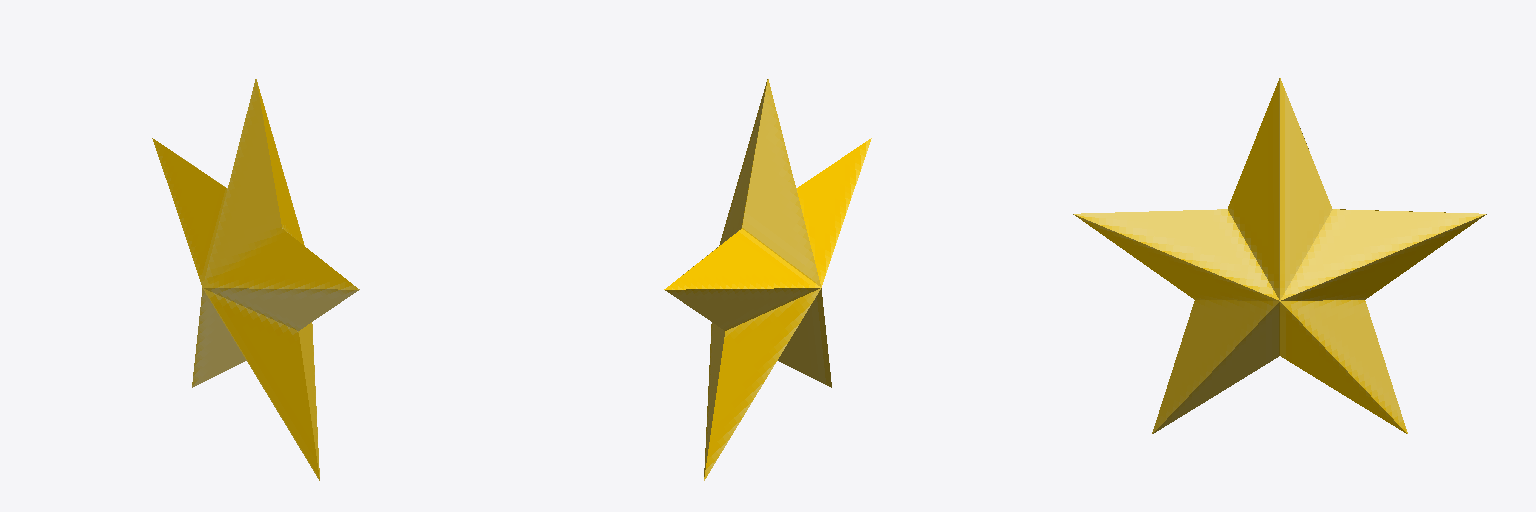
3 views of the same model, side by side, from view 1: azimuth 30°, elevation 25°; view 2: azimuth 150°, elevation 25°; view 3: azimuth 270°, elevation 25° (orthographic).
Parts seen in each view (by area): view 1: Circle; view 2: Circle; view 3: Circle.
Part boxes in pixels (x1,y1,x2,y2): Circle: (152, 79, 359, 480); Circle: (664, 79, 871, 480); Circle: (1073, 78, 1486, 433).
Size of the model in its own units: 0.5659 by 1.81 by 1.9.
Materials: 1 (1 with a texture image).